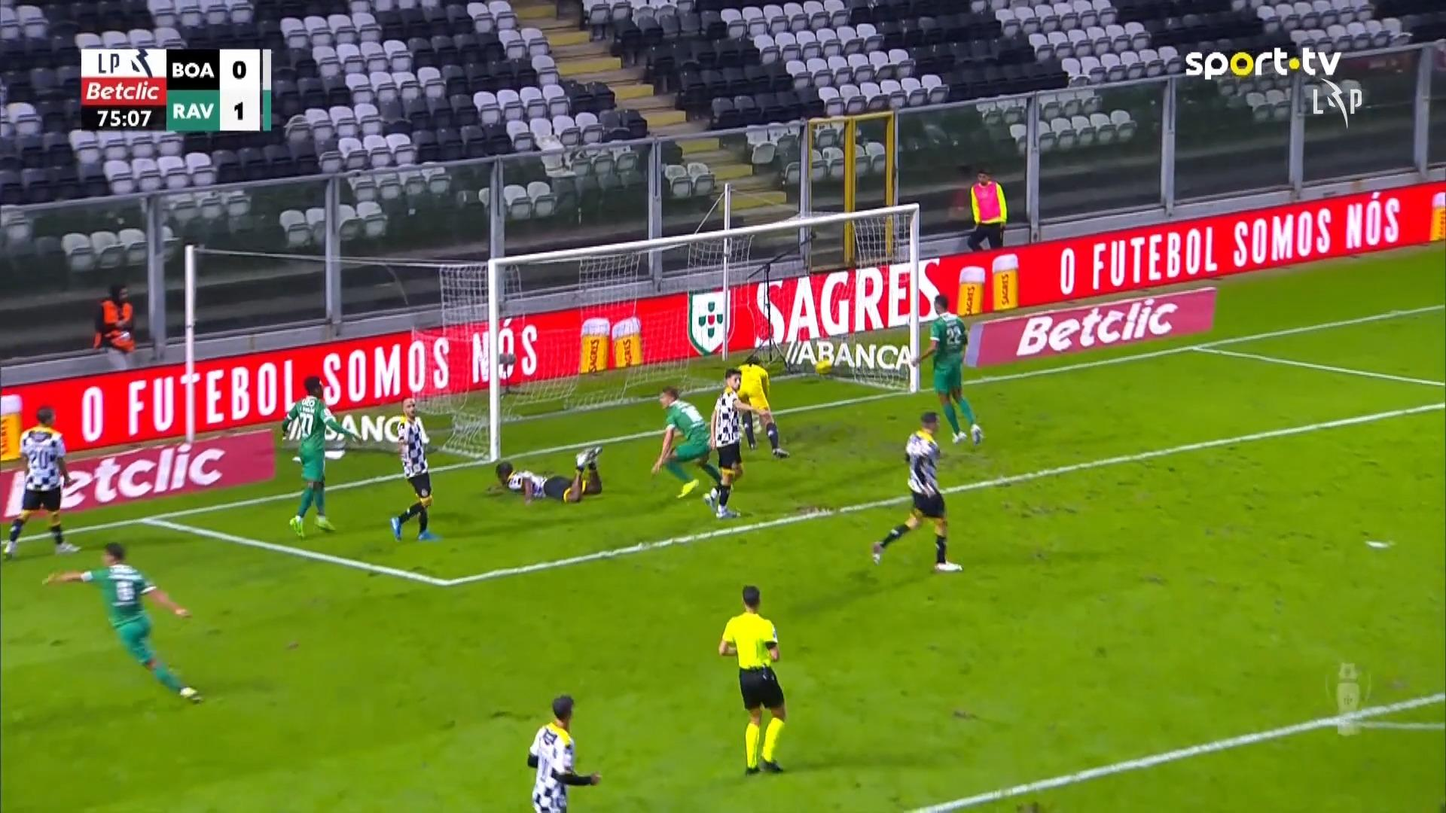ball: (814, 357, 831, 373)
goalkeeper: (734, 352, 789, 459)
player: (41, 540, 203, 705), (870, 410, 963, 573), (279, 374, 363, 540), (2, 405, 81, 559), (906, 294, 984, 446), (526, 693, 602, 811), (649, 385, 724, 501), (703, 367, 758, 519), (389, 397, 440, 541), (493, 444, 603, 504)
referee: (717, 584, 786, 775)
